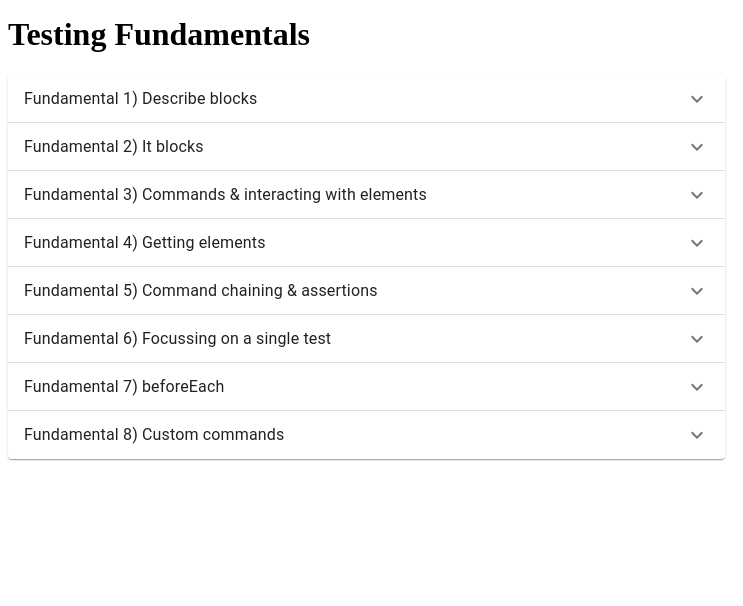
Test case: fundamentals › Header Content
Expected: the heading "Testing Fundamentals" is shown, [8,16,310,52]
Click the element showing "Fundamental 1) Describe blocks": (367, 99) [8,75,725,123]
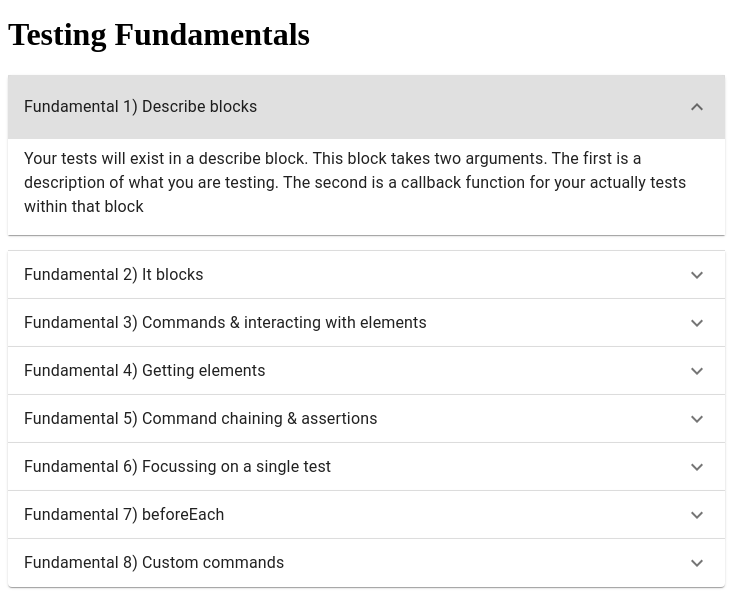
Expected: the text "Your tests will exist in a describe block" is shown, [24,147,709,219]
Click the button "Fundamental 1) Describe blocks": (141, 106) [8,75,725,139]
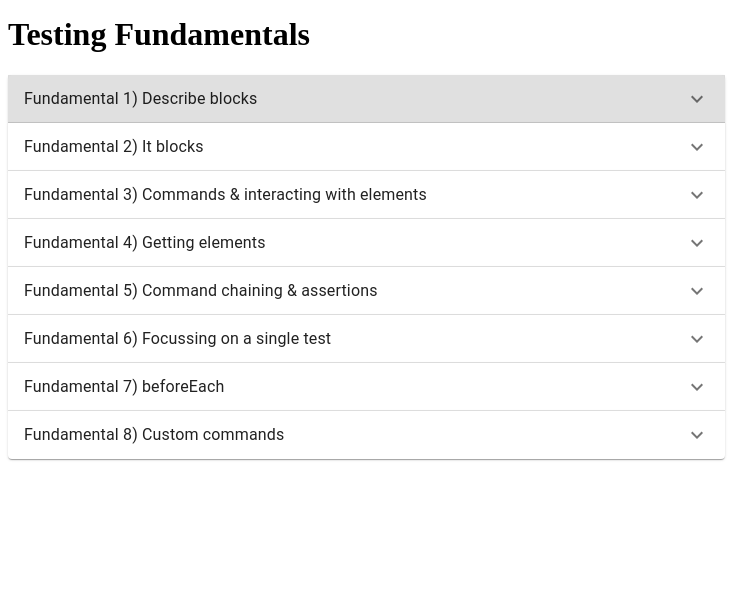
Expected: the text "Your tests will exist in a describe block" is gone
